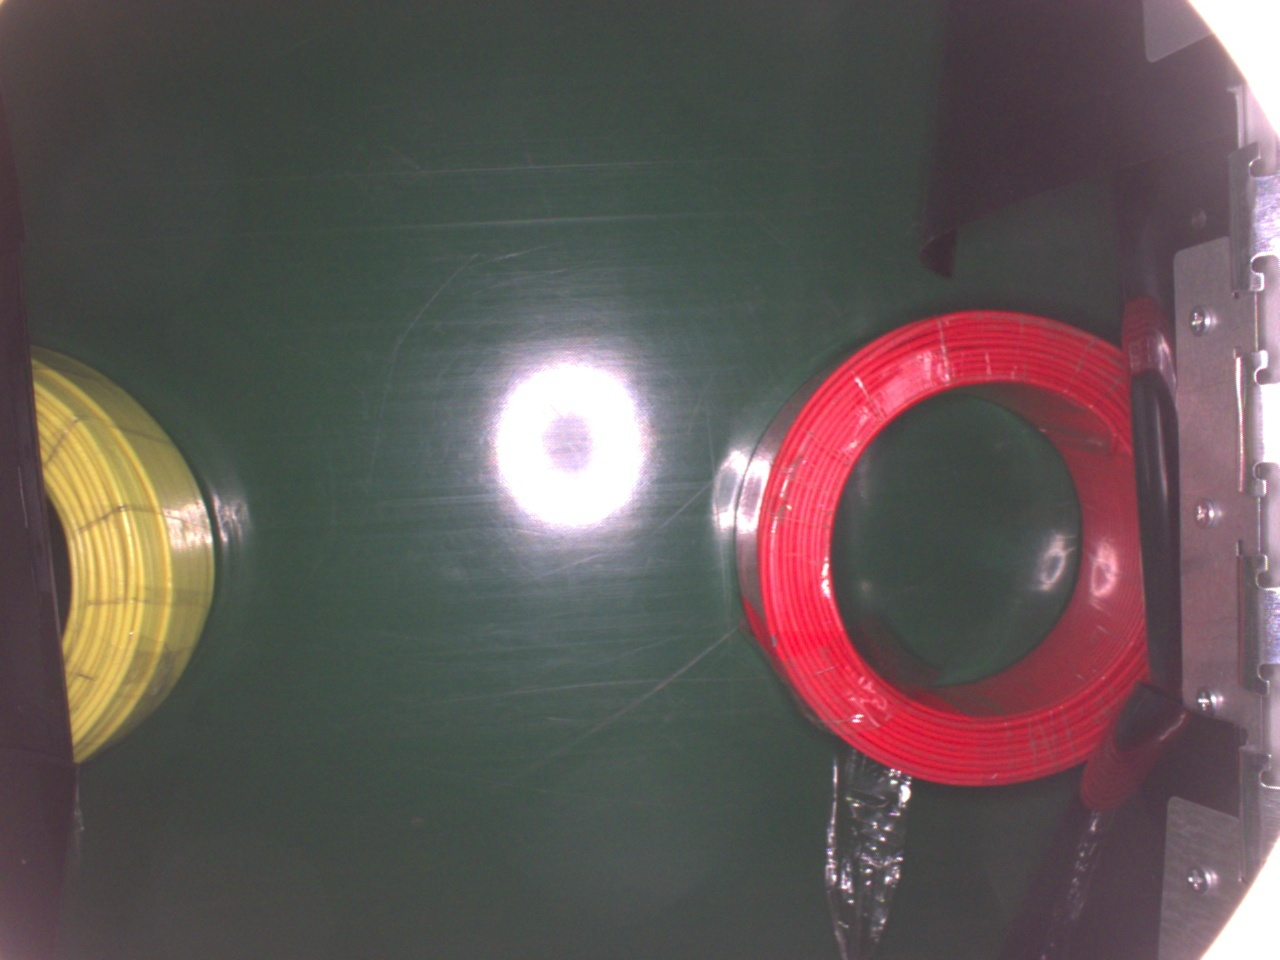red: (732, 307, 1150, 783)
yellow: (30, 341, 224, 761)
